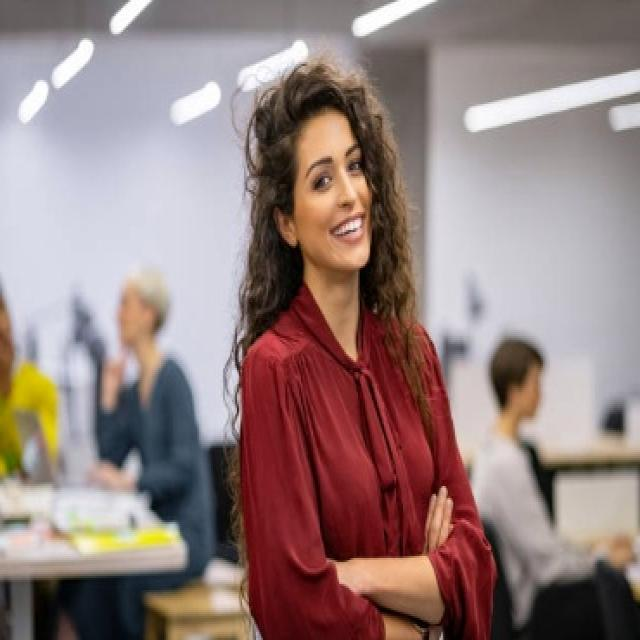adult: (230, 60, 483, 640)
